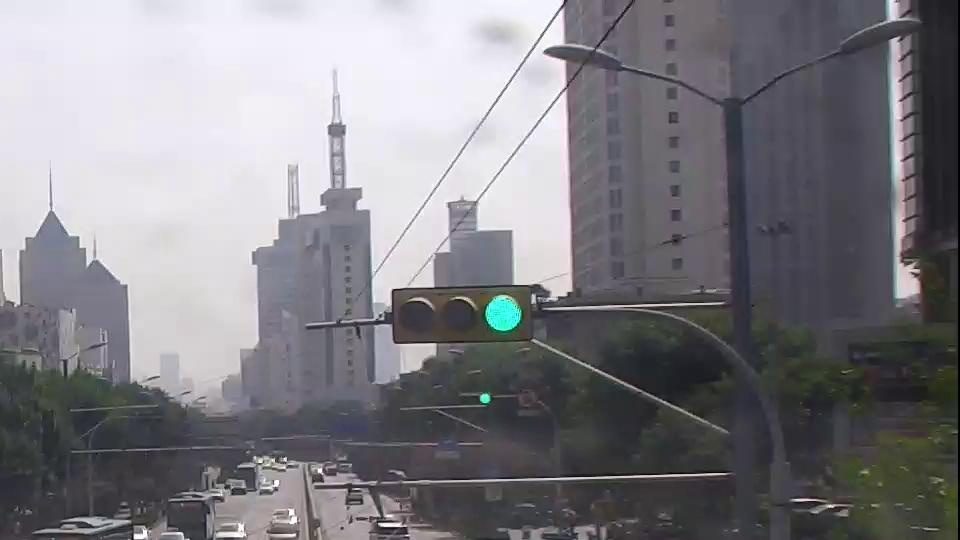green: (485, 291, 524, 334), (479, 392, 492, 403)
